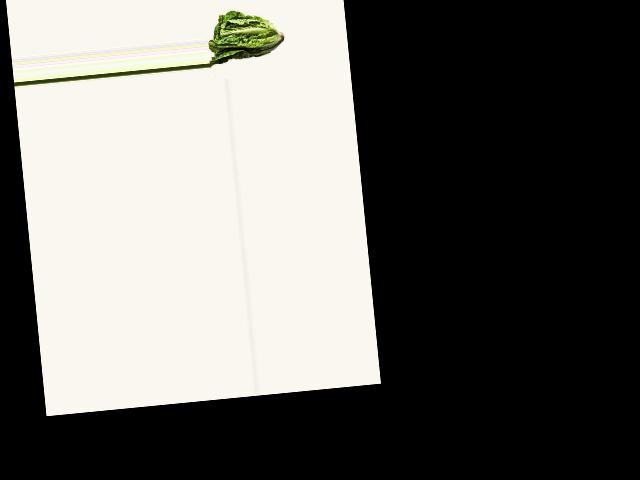lettuce: (205, 3, 284, 64)
